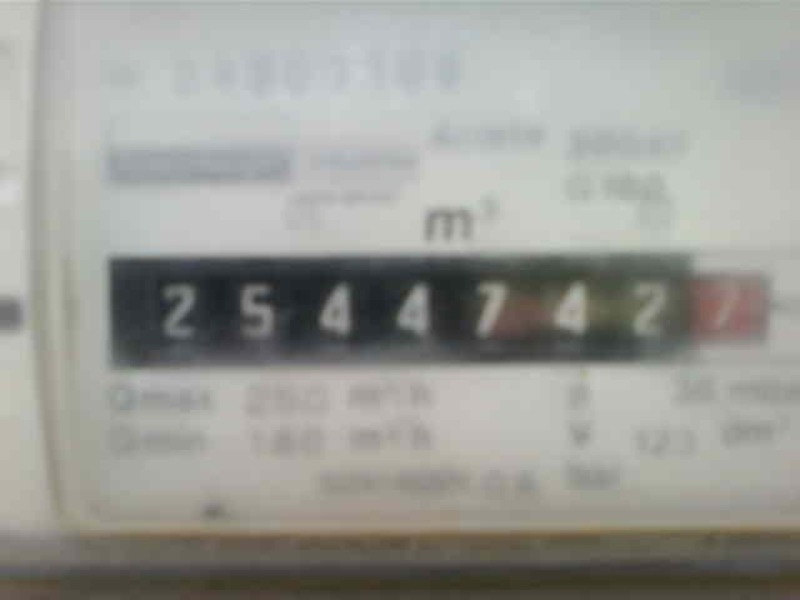ssgc: (114, 259, 783, 364)
